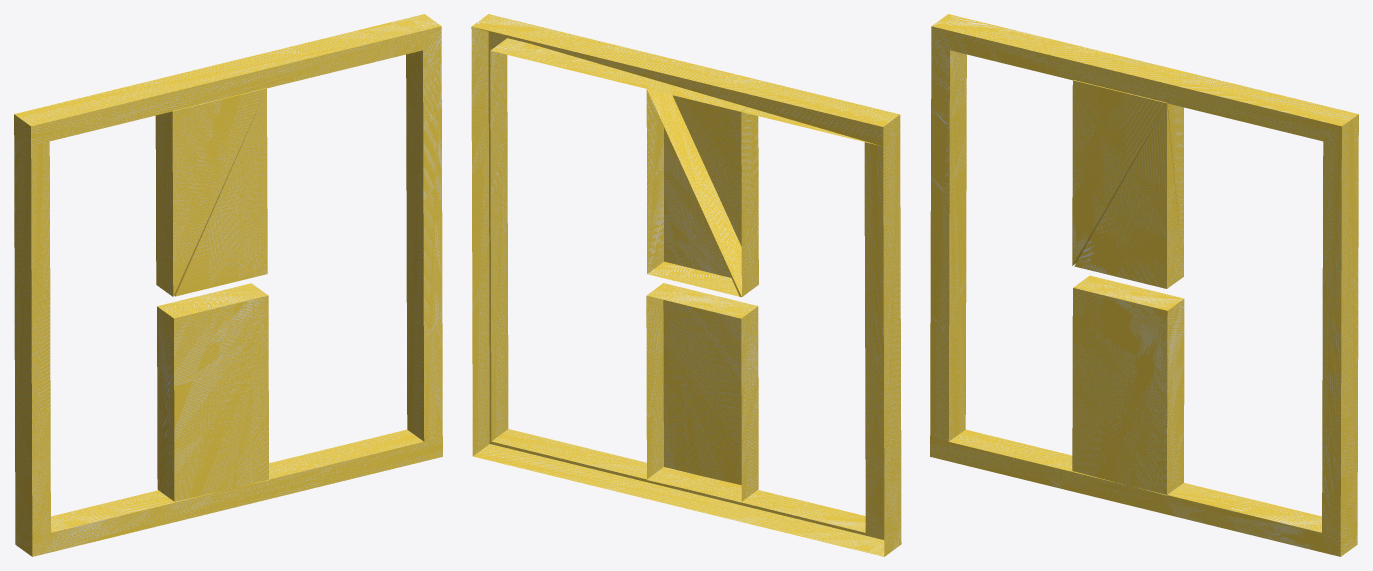
Rendered from H_planar_env.dae.
3 renders of one model, left to right at view 1: azimuth 30°, elevation 25°; view 2: azimuth 150°, elevation 25°; view 3: azimuth 330°, elevation 25°, orthographic.
Parts seen in each view (by area): view 1: instance_0 (×2); view 2: instance_0 (×2); view 3: instance_0 (×2).
Part boxes in pixels (x1,y1,x2,y2): instance_0 (×2): (14, 14, 442, 556); instance_0 (×2): (471, 14, 901, 556); instance_0 (×2): (930, 14, 1358, 556).
Bounding box in the file's own units: 110 × 8.47 × 110.
